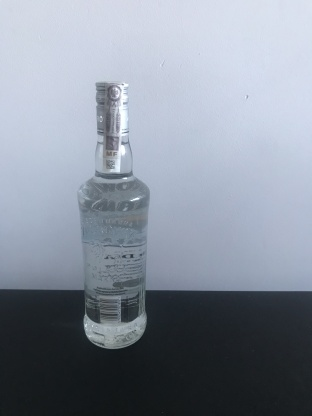nakretka: (92, 75, 132, 138)
